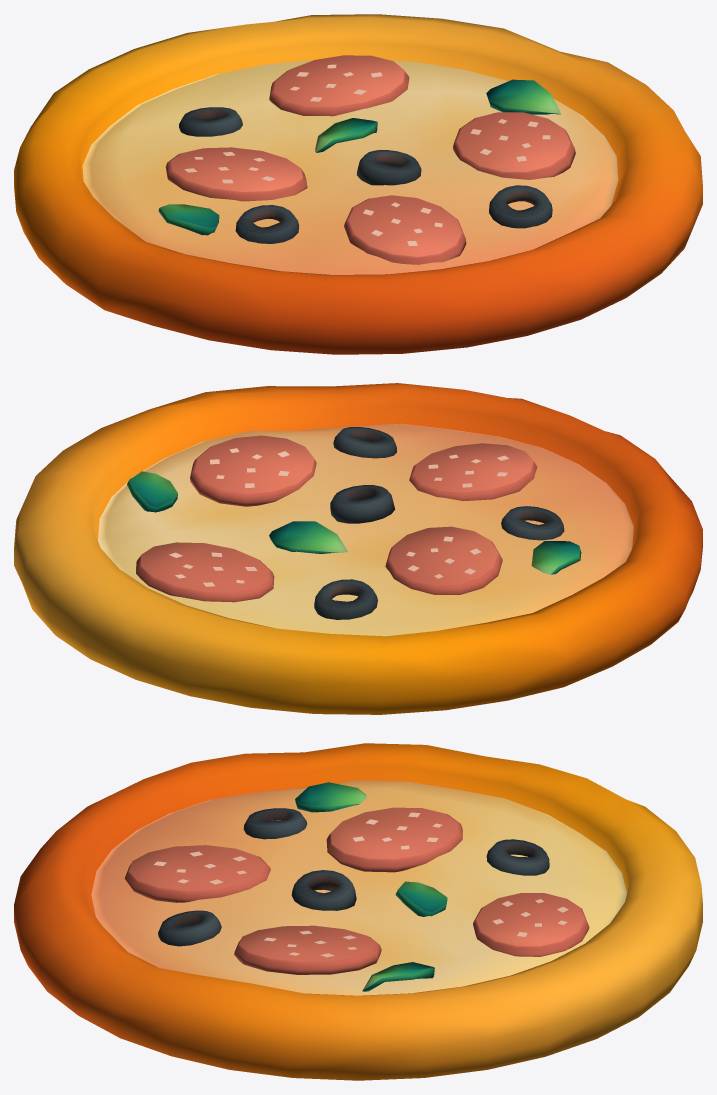
The model's file is pizza_002.fbx.
3 renders of one model, top to bottom at view 1: azimuth 30°, elevation 25°; view 2: azimuth 150°, elevation 25°; view 3: azimuth 270°, elevation 25°, orthographic.
Visible parts, largest first — view 1: pizza_002; view 2: pizza_002; view 3: pizza_002.
Boxes of the visible parts, left/top/right/bottom form: pizza_002: left=14, top=14, right=702, bottom=354; pizza_002: left=14, top=383, right=702, bottom=714; pizza_002: left=14, top=743, right=702, bottom=1080.
Bounding box in the file's own units: 38.8 × 38.8 × 4.83.
